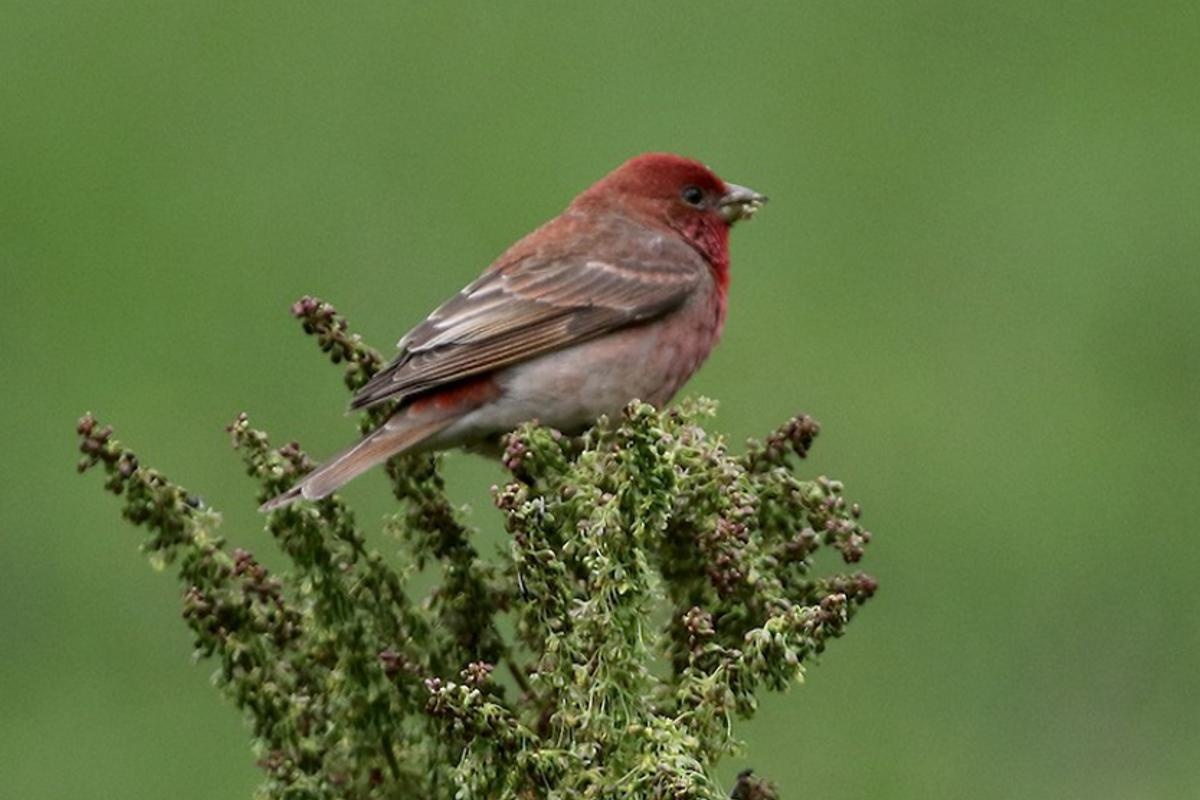rosefinch: (331, 134, 813, 518)
